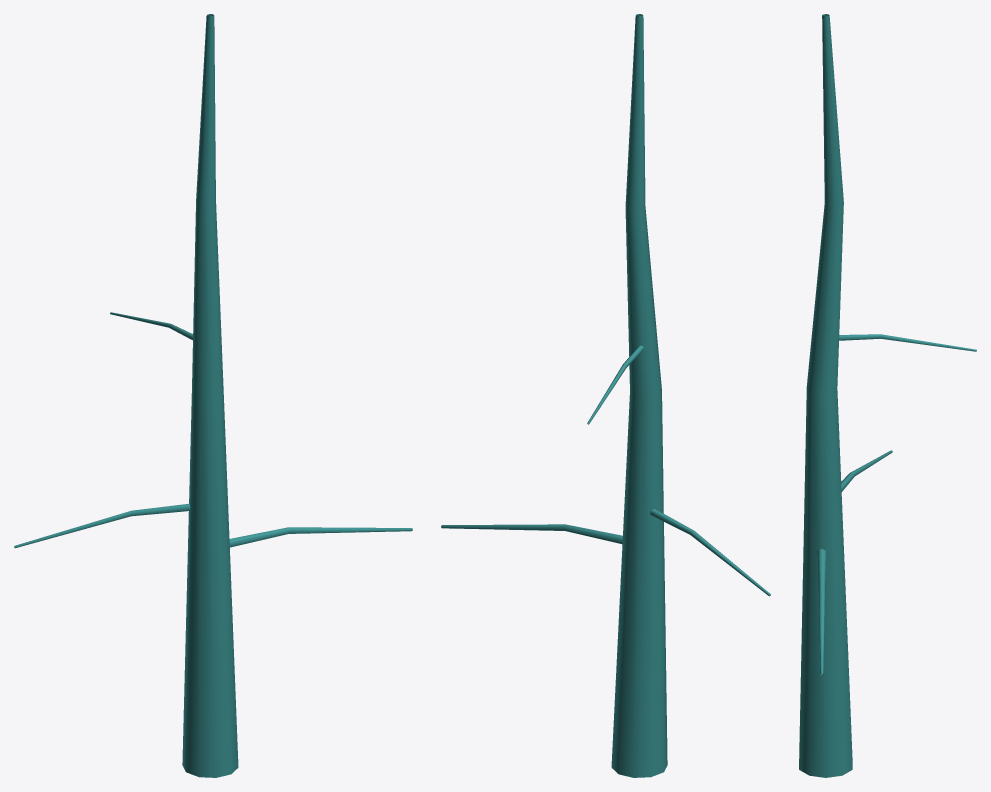
Rendered from furTree_dead_lod1.FBX.
3 renders of one model, left to right at view 1: azimuth 30°, elevation 25°; view 2: azimuth 150°, elevation 25°; view 3: azimuth 270°, elevation 25°, orthographic.
Visible parts, largest first — view 1: furTree_dead_lod1; view 2: furTree_dead_lod1; view 3: furTree_dead_lod1.
Boxes of the visible parts, x1,y1,x2,y2 form: furTree_dead_lod1: [14, 14, 412, 777]; furTree_dead_lod1: [441, 14, 770, 777]; furTree_dead_lod1: [799, 14, 976, 777].
Size of the model in its own units: 6742 by 13304 by 2857.
